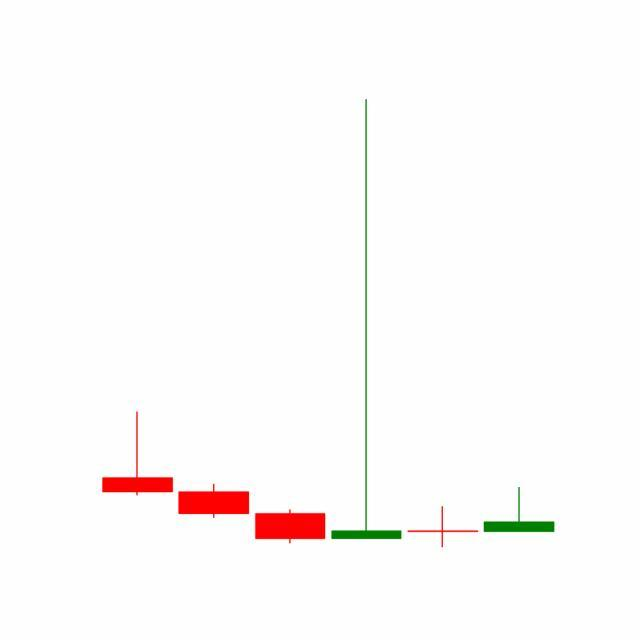Spinning Top: (404, 506, 482, 549)
